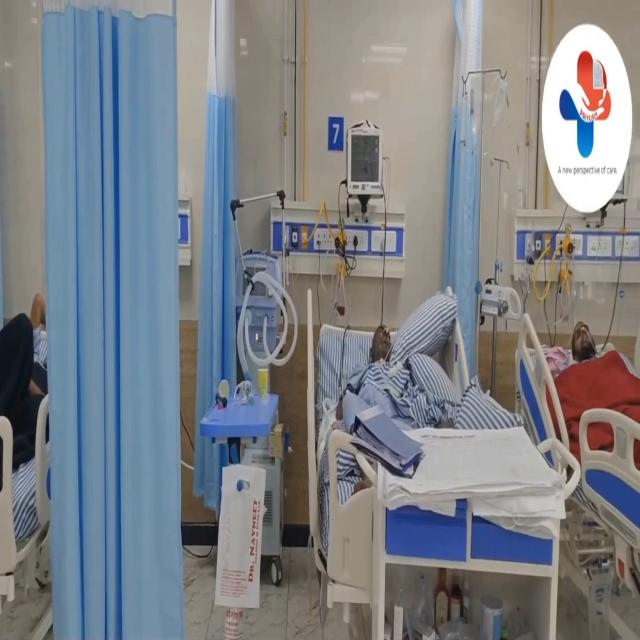Movement-NO: (350, 301, 419, 389)
